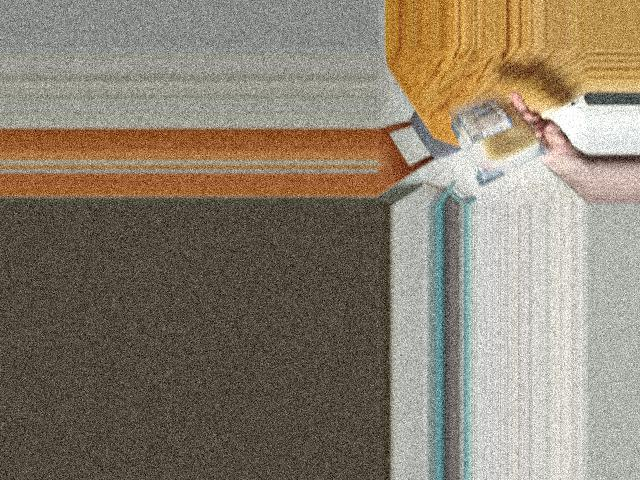cheese: (453, 98, 539, 169)
